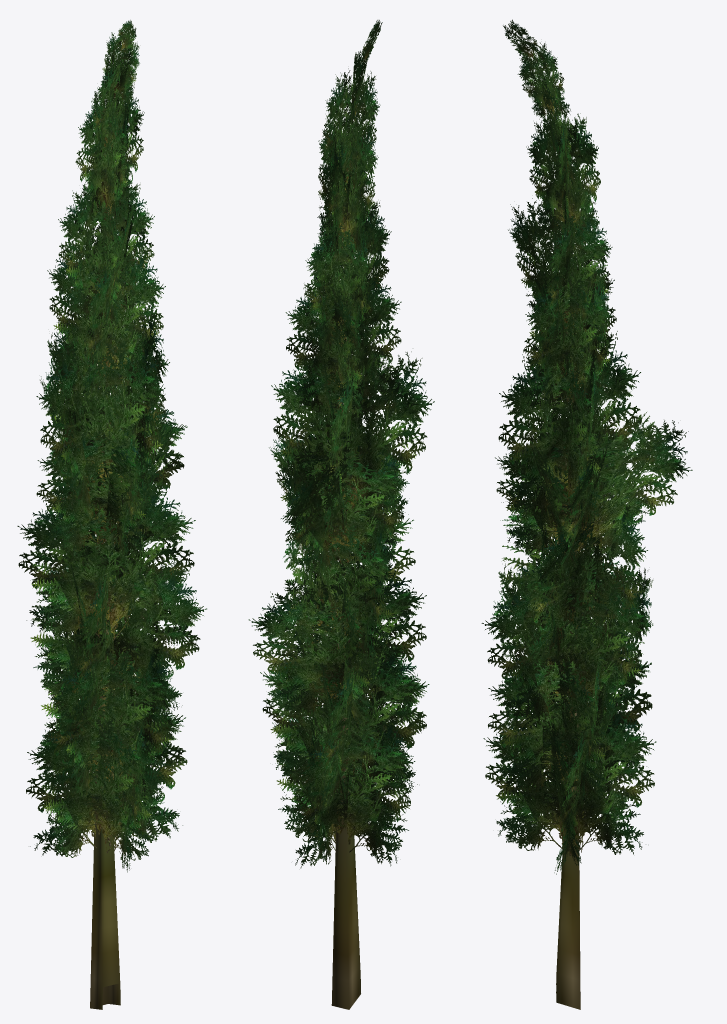
Rendered from flora-trees-cypress-mediterranean-wild.glb.
The picture shows the model from 3 angles, left to right: view 1: azimuth 30°, elevation 25°; view 2: azimuth 150°, elevation 25°; view 3: azimuth 270°, elevation 25°; orthographic projection. The views are drawn at different scales.
Parts seen in each view (by area): view 1: Plane_023; view 2: Plane_023; view 3: Plane_023.
Part boxes in pixels (left/top/right/bottom): Plane_023: left=17, top=20, right=206, bottom=1009; Plane_023: left=248, top=20, right=434, bottom=1009; Plane_023: left=481, top=19, right=692, bottom=1009.
Size of the model in its own units: 1.23 by 6.75 by 1.49.
Materials: 1 (1 with a texture image).
